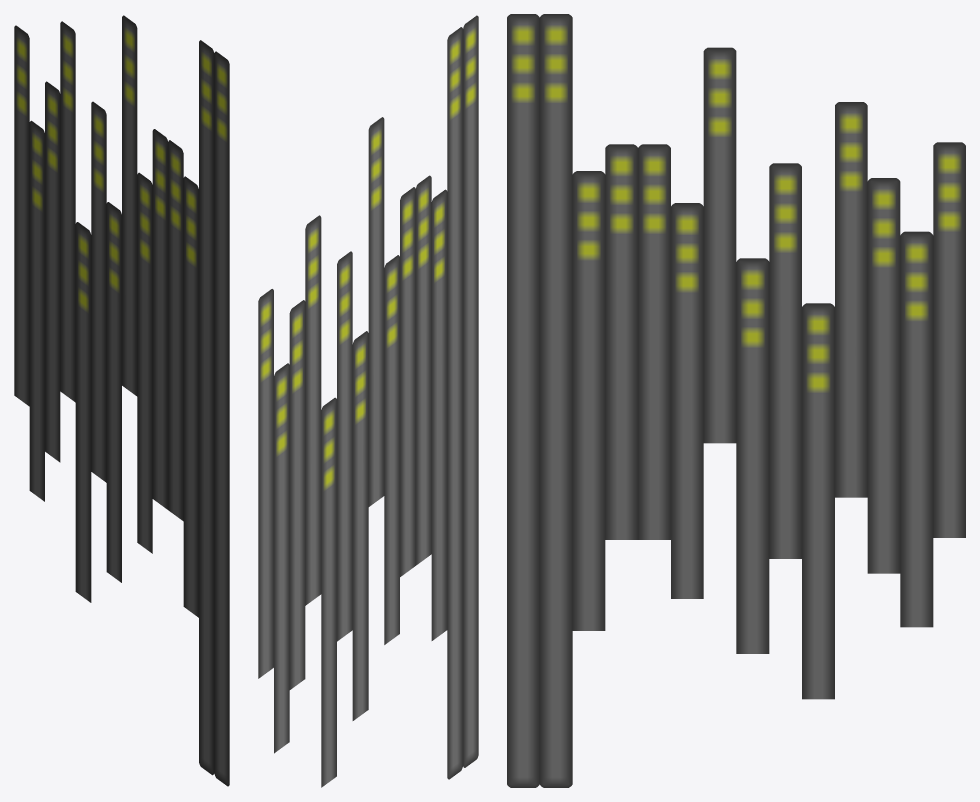
Rendered from frcity.dae.
The picture shows the model from 3 angles, left to right: view 1: azimuth 30°, elevation 25°; view 2: azimuth 150°, elevation 25°; view 3: azimuth 270°, elevation 25°; orthographic projection. The views are drawn at different scales.
Parts seen in each view (by area): view 1: city; view 2: city; view 3: city.
Part boxes in pixels (x1=…): city: x1=14, y1=15, x2=229, y2=786; city: x1=258, y1=15, x2=478, y2=787; city: x1=507, y1=14, x2=965, y2=787.
Bounding box in the file's own units: 0 × 6.74 × 3.62.
Materials: 1 (1 with a texture image).
